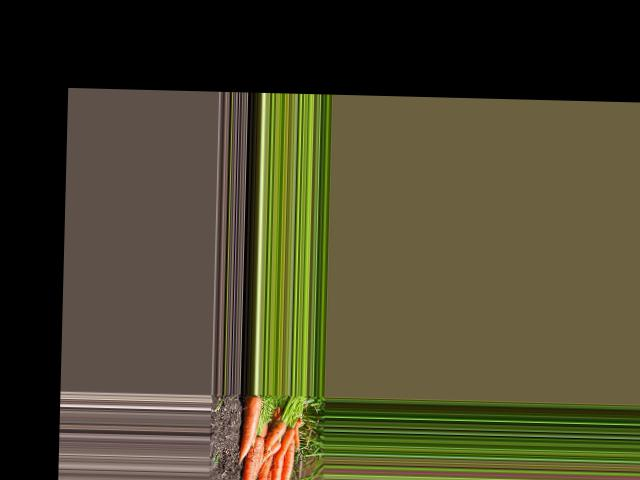carrot: (272, 425, 294, 480)
